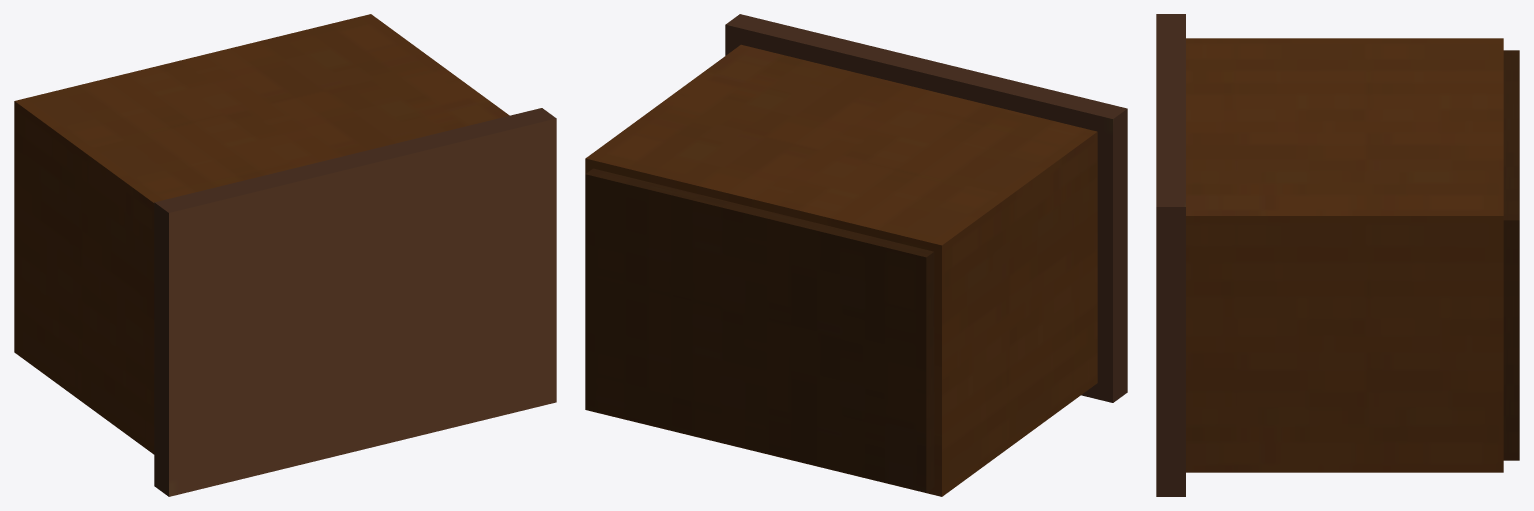
Rendered from pz_g018_bar_wood_back.obj.
3 renders of one model, left to right at view 1: azimuth 30°, elevation 25°; view 2: azimuth 150°, elevation 25°; view 3: azimuth 270°, elevation 25°, orthographic. The views are drawn at different scales.
Parts seen in each view (by area): view 1: top, side, trim; view 2: side, plinth, trim; view 3: side, trim, plinth.
Boxes of the visible parts, x1,y1,x2,y2 form: top: (169,118,556,496); side: (14,14,509,454); trim: (154,108,556,496); side: (585,44,1097,496); plinth: (585,168,934,492); trim: (725,14,1127,402); side: (1186,38,1503,472); trim: (1156,14,1185,496); plinth: (1503,50,1519,460).
Size of the model in its own units: 1 by 0.7 by 0.795.
Materials: 1 (1 with a texture image).
